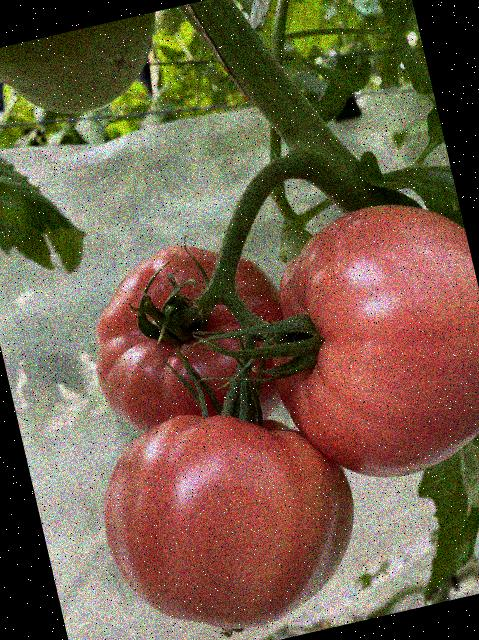b_fully_ripened: (82, 381, 375, 640), (240, 186, 479, 500), (70, 223, 306, 454)
b_green: (0, 11, 173, 131)
